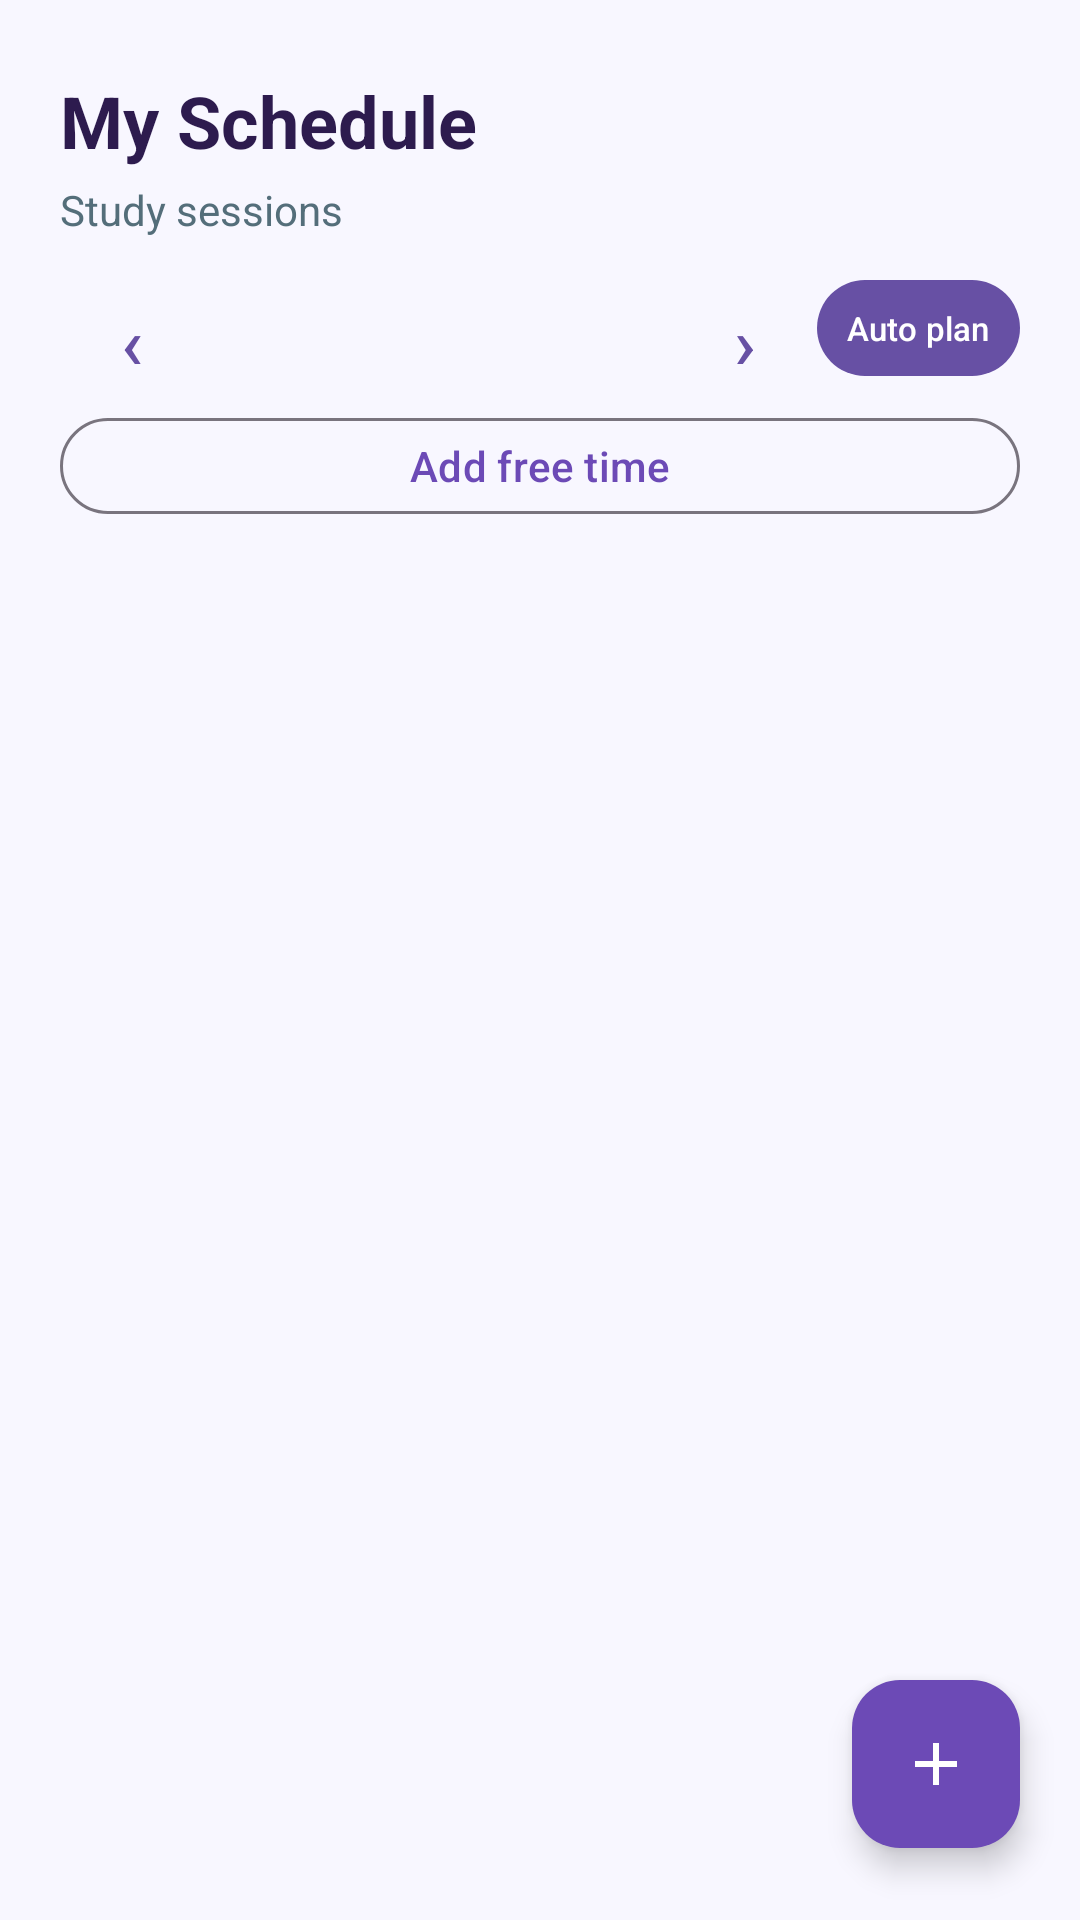

Icon click points for this 1080x1920 phone screenshot, format (x,y):
Add Schedule: (936,1764)
